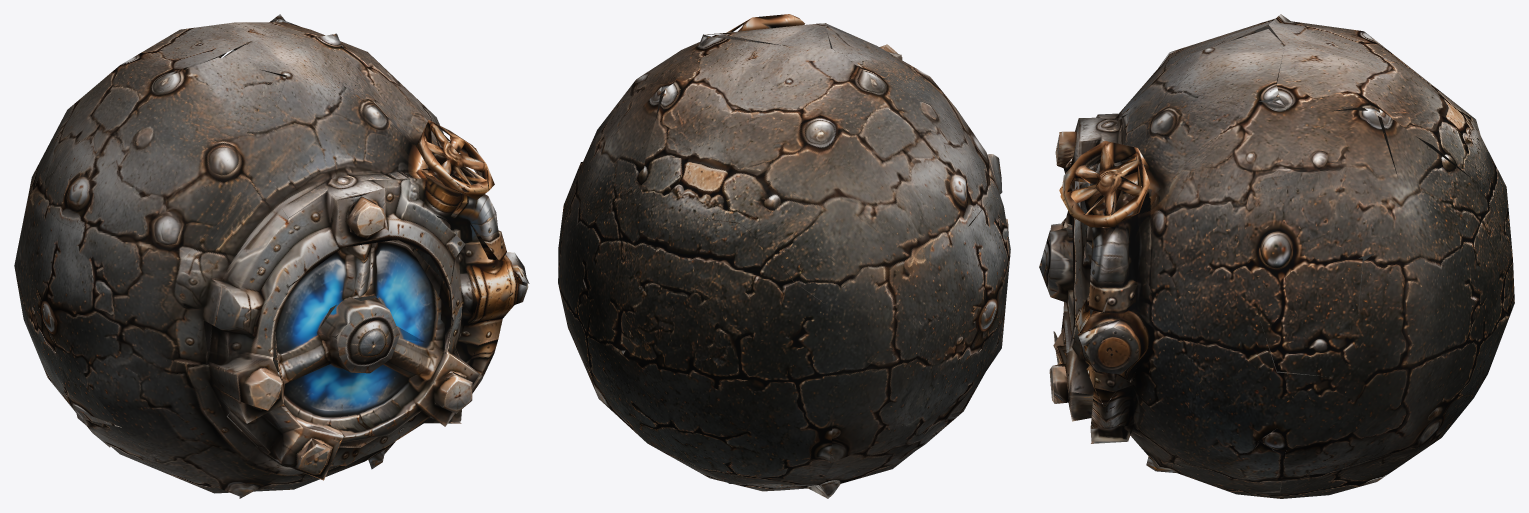
File: EnergyCore.fbx
3 renders of one model, left to right at view 1: azimuth 30°, elevation 25°; view 2: azimuth 150°, elevation 25°; view 3: azimuth 270°, elevation 25°, orthographic.
Visible parts, largest first — view 1: texture_mapping; view 2: texture_mapping; view 3: texture_mapping.
Part boxes in pixels (x1,y1,x2,y2): texture_mapping: (14,14,529,498); texture_mapping: (558,14,1010,498); texture_mapping: (1039,14,1514,498).
Bounding box in the file's own units: 95.48 × 96.17 × 95.67.
1 material, 1 textured.
